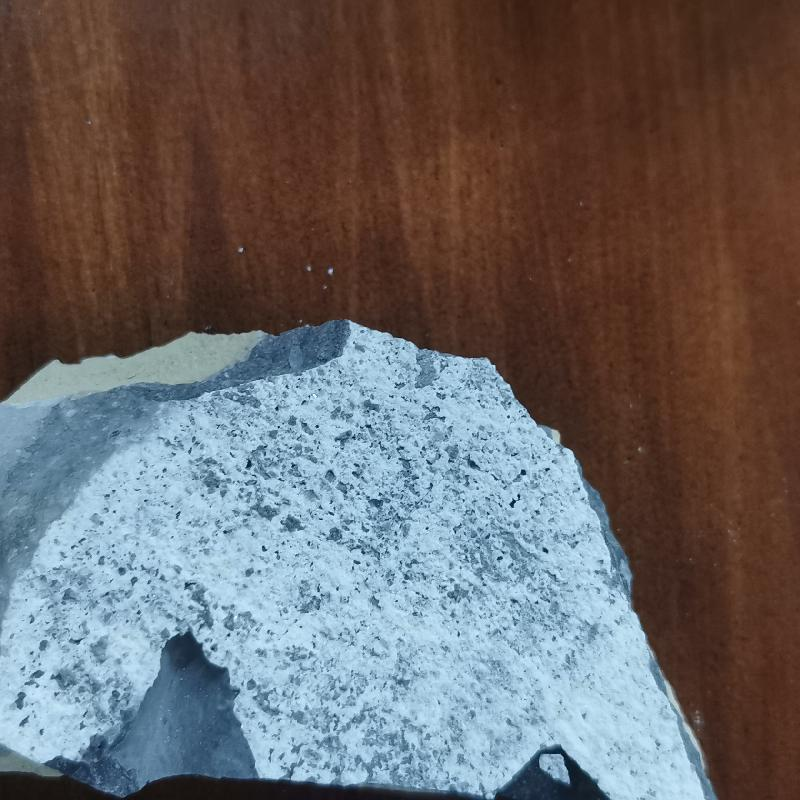tile: (0, 314, 723, 800)
